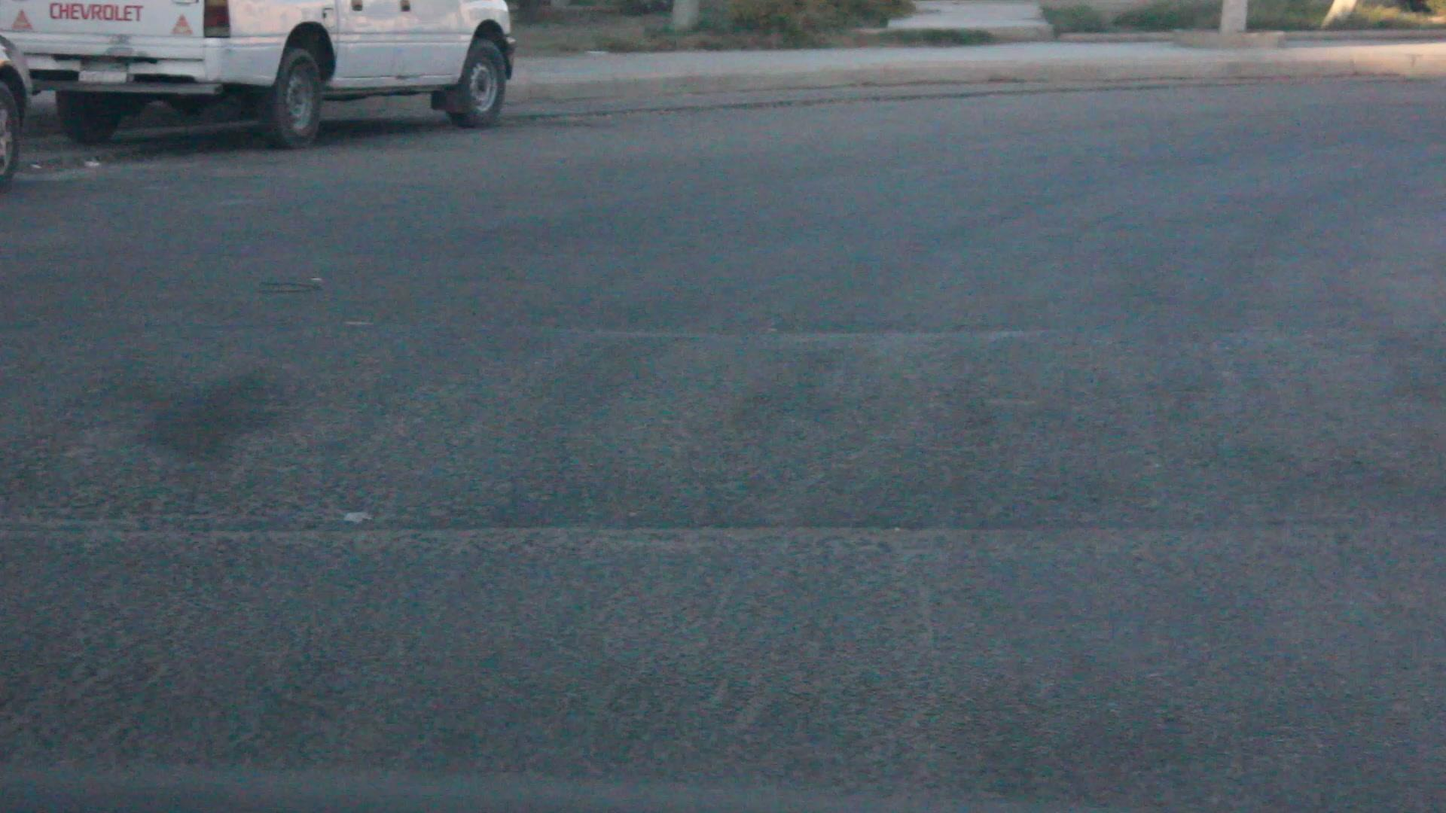Bump: (36, 316, 1446, 576)
